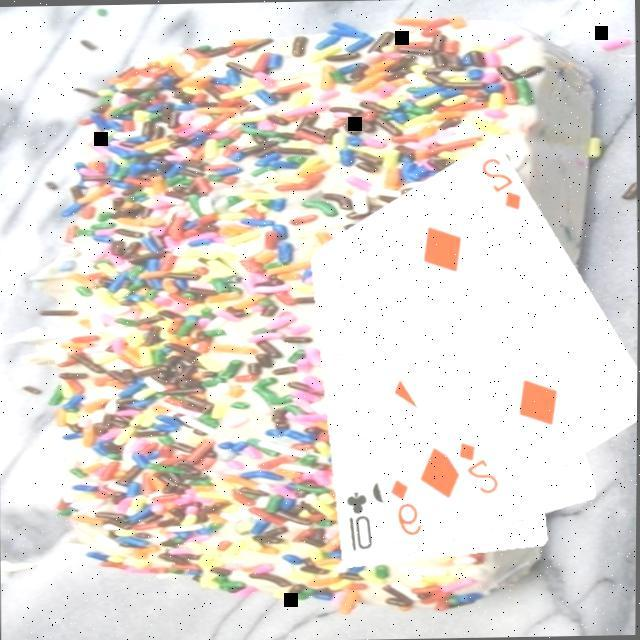10C: (341, 486, 374, 553)
2D: (476, 152, 524, 212), (454, 435, 501, 496)
6D: (386, 473, 424, 538)
